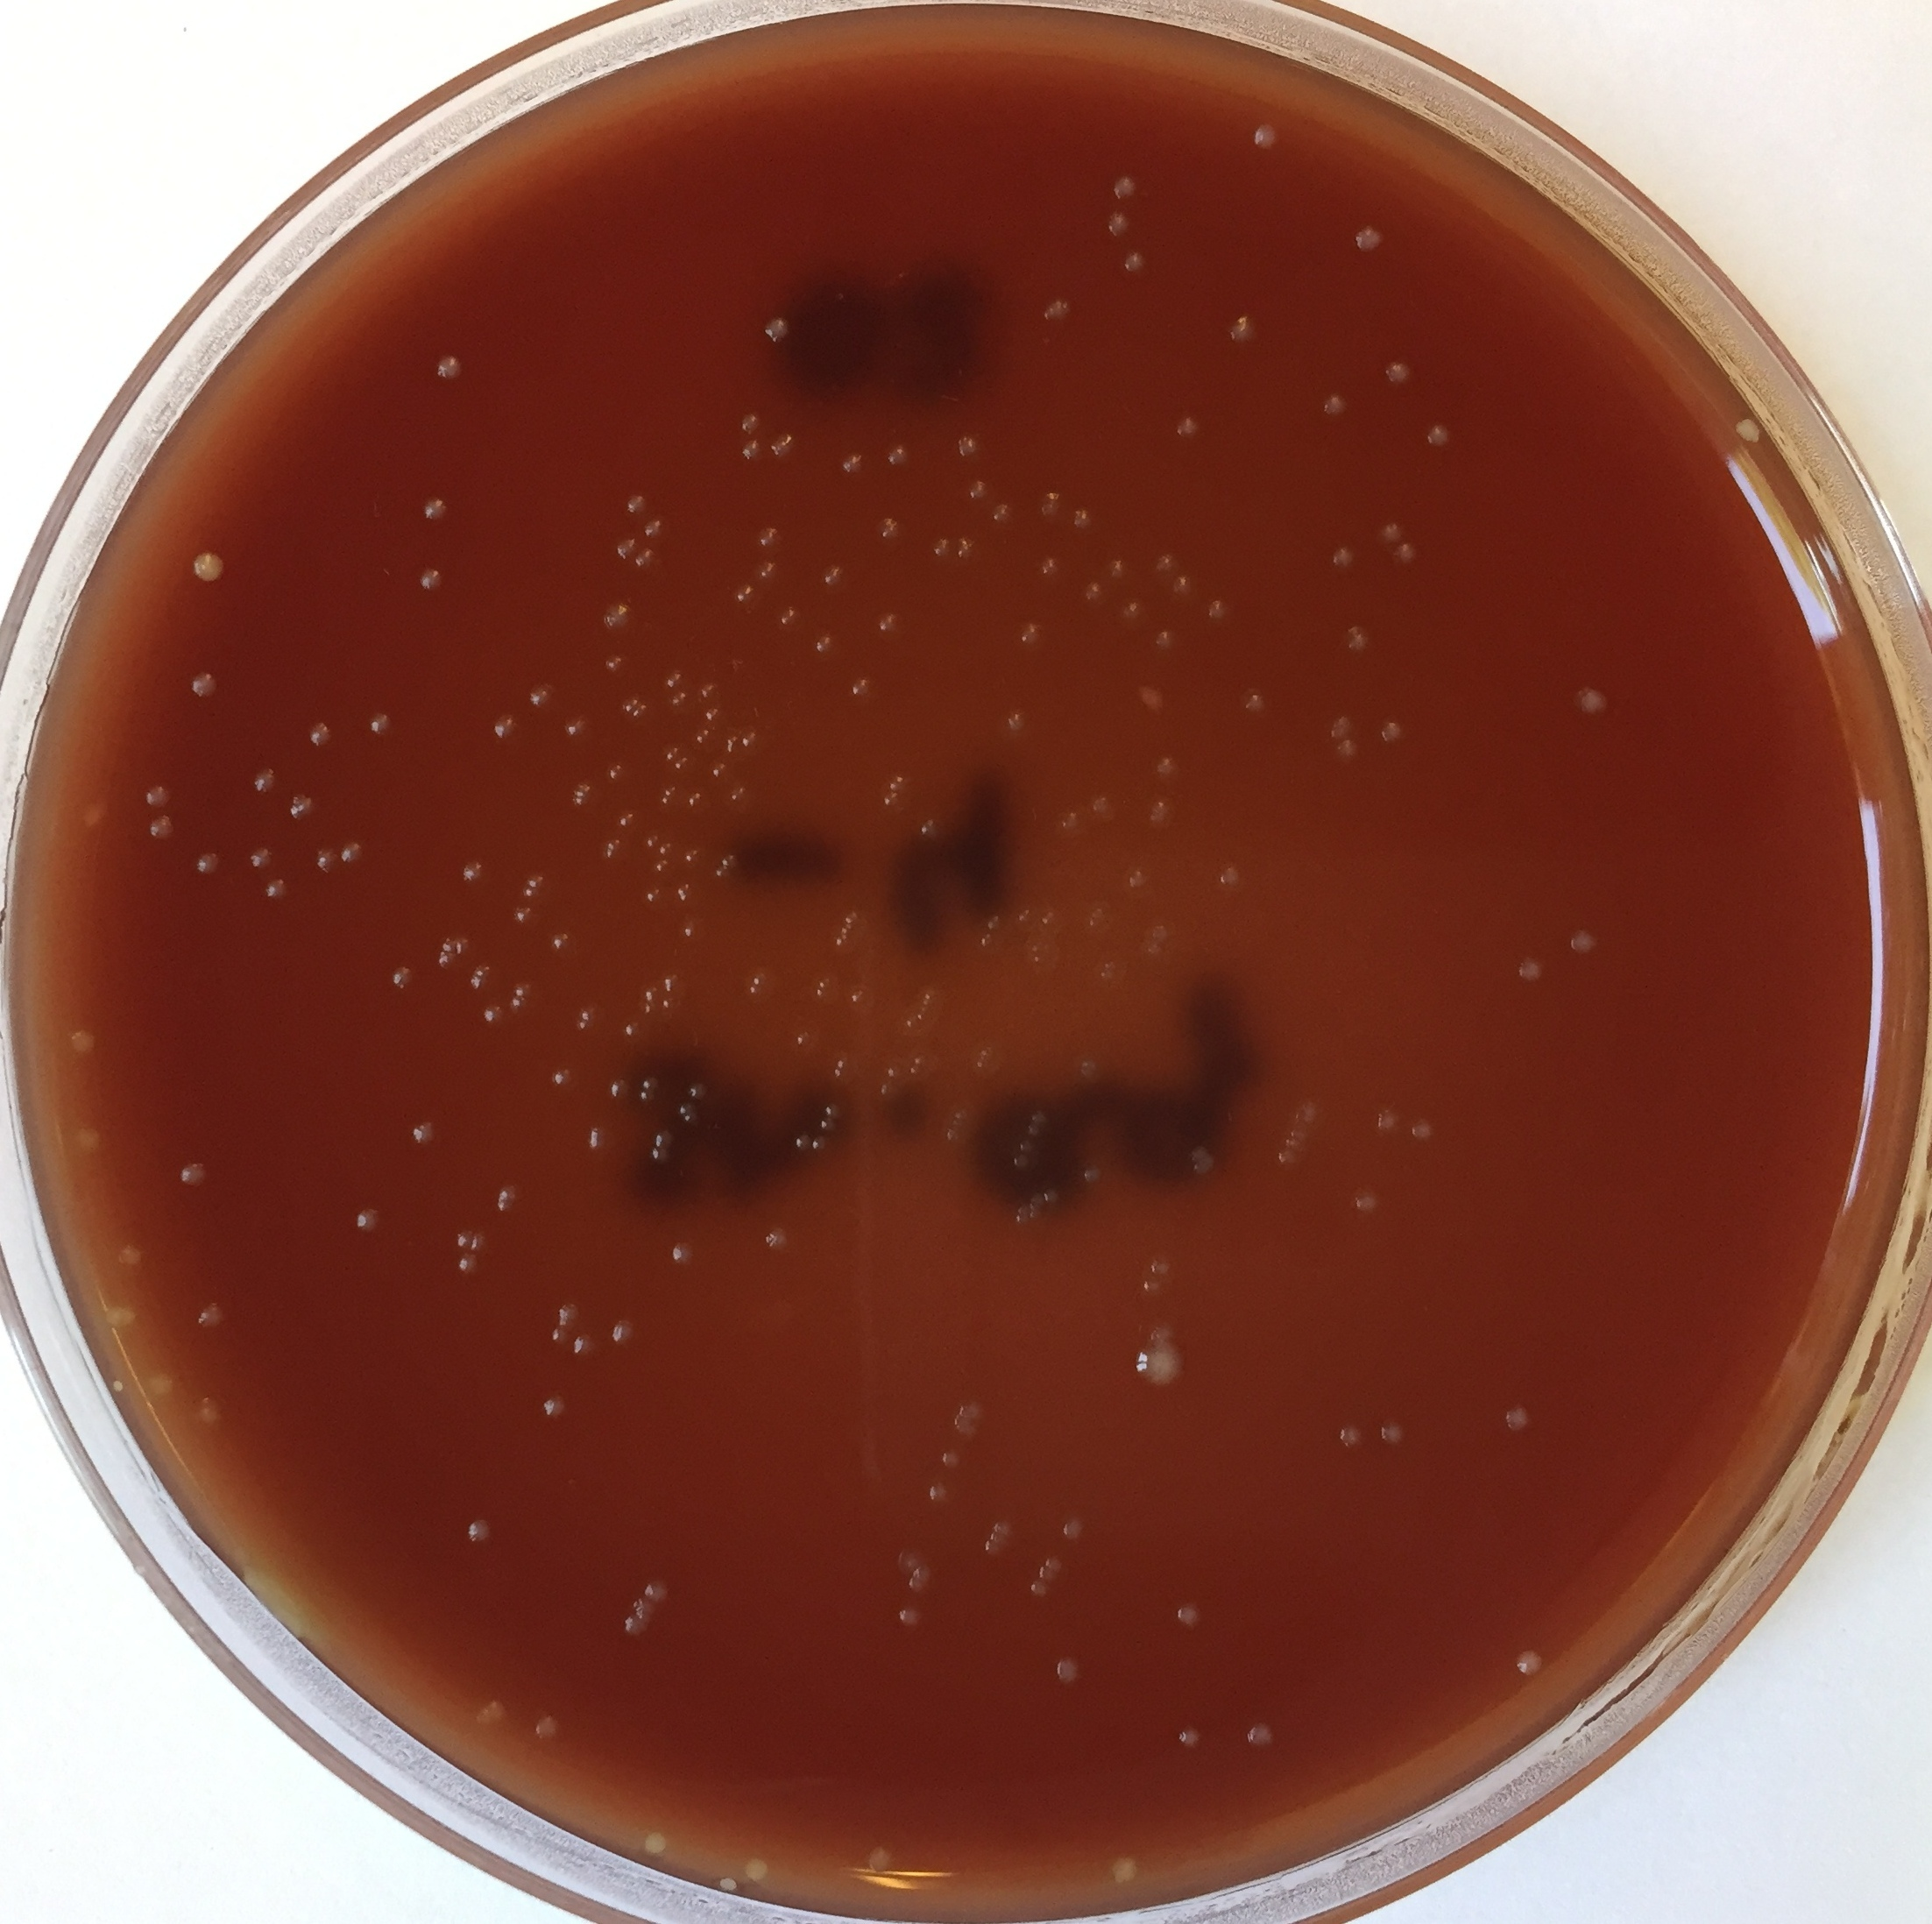sp23: (959, 1029, 1010, 1082), (1271, 1091, 1320, 1143), (1139, 1350, 1188, 1399), (189, 550, 236, 596), (910, 964, 955, 1010), (834, 897, 878, 934), (1133, 684, 1172, 721), (1223, 315, 1264, 349), (1572, 684, 1609, 719), (1567, 927, 1606, 960), (175, 1159, 213, 1193), (525, 678, 564, 712), (99, 1304, 139, 1336), (1514, 1646, 1549, 1681), (490, 712, 529, 744), (1107, 1855, 1142, 1889), (1514, 953, 1549, 987), (1352, 222, 1387, 255), (113, 1240, 150, 1272), (601, 599, 638, 631), (1103, 208, 1137, 241), (407, 1117, 441, 1151), (1141, 1314, 1176, 1346), (261, 876, 296, 907), (414, 564, 450, 596), (1324, 715, 1361, 745), (141, 1371, 175, 1402), (1377, 1417, 1410, 1448), (457, 853, 488, 886), (1245, 1720, 1280, 1750), (1384, 359, 1419, 389), (432, 352, 467, 382), (190, 851, 227, 879), (1052, 1656, 1084, 1688), (354, 1205, 386, 1237), (862, 1843, 892, 1876), (194, 1300, 229, 1328), (1502, 1402, 1534, 1432), (1252, 122, 1282, 153), (762, 315, 793, 345), (250, 766, 282, 796), (289, 791, 319, 823), (337, 837, 368, 867), (245, 844, 277, 874), (189, 670, 220, 699), (1174, 1721, 1207, 1750), (420, 495, 453, 523), (767, 432, 802, 458), (1345, 624, 1375, 654), (1377, 717, 1407, 747), (1155, 752, 1185, 782), (1174, 1602, 1206, 1630), (1153, 625, 1185, 654), (608, 1318, 640, 1346), (76, 1126, 108, 1154), (312, 846, 340, 877), (148, 812, 180, 840), (305, 721, 337, 749), (619, 1614, 652, 1640), (1111, 174, 1144, 201), (464, 1517, 494, 1545), (642, 1829, 672, 1857), (1336, 1422, 1364, 1452), (1204, 596, 1234, 624), (1319, 391, 1349, 419), (1424, 423, 1454, 451), (1329, 544, 1357, 574), (753, 523, 784, 550), (1352, 1188, 1380, 1216), (367, 710, 395, 738), (197, 1399, 224, 1429), (894, 1603, 924, 1630), (1394, 536, 1421, 566), (1123, 248, 1153, 275), (876, 610, 906, 636), (587, 1126, 613, 1156), (67, 1029, 99, 1054), (561, 717, 592, 742), (1042, 301, 1075, 324), (642, 1575, 670, 1602), (1239, 691, 1267, 717), (1172, 414, 1200, 440), (991, 500, 1019, 527), (874, 513, 901, 541), (1021, 620, 1047, 648), (684, 788, 712, 814), (541, 1395, 569, 1422), (670, 1239, 698, 1265), (390, 964, 418, 990), (640, 883, 668, 909), (601, 652, 629, 678), (451, 1253, 481, 1277), (744, 1857, 774, 1882), (1375, 522, 1405, 546), (762, 1226, 791, 1251), (1146, 923, 1165, 960), (1410, 1115, 1437, 1142), (571, 1332, 598, 1358), (1149, 1256, 1178, 1281), (887, 444, 911, 472), (955, 435, 984, 460), (145, 784, 173, 809), (629, 544, 658, 569), (532, 1716, 564, 1737), (1059, 1519, 1086, 1543), (1070, 507, 1095, 534), (821, 562, 846, 588), (707, 759, 733, 784), (1089, 795, 1116, 819), (1126, 869, 1153, 893), (608, 1077, 633, 1103), (642, 514, 668, 539), (624, 493, 652, 516), (737, 412, 762, 437), (843, 451, 867, 476), (777, 606, 802, 631), (851, 675, 876, 699), (1119, 597, 1144, 622), (483, 1003, 508, 1027), (613, 536, 638, 560), (1081, 580, 1107, 603), (726, 786, 753, 809), (605, 763, 631, 786), (959, 1401, 987, 1422), (955, 534, 977, 562), (811, 634, 839, 655), (557, 1300, 585, 1321), (494, 1182, 522, 1203), (950, 1415, 980, 1434), (911, 1563, 936, 1586), (1375, 1112, 1400, 1135), (754, 560, 779, 583), (733, 581, 758, 604), (1107, 557, 1132, 580), (917, 818, 941, 840), (1218, 865, 1243, 888), (1141, 1276, 1167, 1297), (1056, 810, 1082, 832), (686, 1080, 712, 1101), (1190, 1156, 1218, 1175), (940, 1447, 962, 1469), (554, 1066, 576, 1089), (1082, 1163, 1105, 1186), (795, 1029, 818, 1052), (659, 971, 682, 994), (742, 437, 763, 462), (931, 537, 955, 559), (1038, 555, 1063, 576), (652, 1126, 673, 1151), (451, 937, 476, 958), (663, 670, 687, 691), (550, 932, 576, 951), (906, 1573, 929, 1595), (968, 479, 991, 500), (1007, 710, 1029, 731), (661, 742, 682, 765), (1040, 1186, 1063, 1207), (513, 978, 536, 999), (925, 1484, 950, 1503), (1169, 574, 1193, 594), (548, 1325, 573, 1344), (702, 705, 726, 724), (1103, 957, 1130, 974), (1338, 740, 1359, 761), (1040, 909, 1061, 930), (624, 1018, 645, 1040), (712, 869, 732, 892), (1188, 1143, 1211, 1163), (1276, 1147, 1299, 1166), (1155, 551, 1178, 571), (739, 731, 762, 751), (978, 930, 998, 953), (848, 987, 871, 1006), (635, 999, 658, 1018), (1146, 798, 1170, 816), (469, 1230, 488, 1251), (1029, 1579, 1051, 1598), (982, 1538, 1001, 1559), (673, 754, 695, 773), (695, 728, 716, 747), (724, 735, 744, 756), (883, 789, 904, 809), (793, 1131, 814, 1151), (1019, 1138, 1040, 1158), (1081, 1059, 1102, 1078), (679, 921, 700, 941), (675, 881, 695, 902), (622, 692, 642, 714), (629, 703, 650, 722), (1035, 1566, 1058, 1584), (1042, 1556, 1065, 1573), (1040, 490, 1063, 507), (640, 1073, 663, 1091), (527, 876, 550, 893), (668, 689, 691, 707), (809, 1135, 829, 1154), (451, 1232, 472, 1249), (719, 851, 740, 869), (984, 914, 1005, 932), (650, 1145, 672, 1163), (469, 973, 487, 994), (640, 985, 661, 1003), (992, 1517, 1012, 1535), (617, 812, 636, 830), (658, 840, 677, 858), (1019, 907, 1037, 927), (880, 1082, 899, 1099), (575, 1018, 594, 1036), (702, 678, 719, 698), (661, 784, 682, 800), (658, 795, 679, 810), (638, 1087, 659, 1103), (1012, 1152, 1033, 1168), (471, 962, 492, 978), (513, 906, 534, 921), (686, 847, 703, 865), (945, 1128, 962, 1145), (580, 1004, 598, 1022), (643, 833, 663, 849), (679, 1099, 698, 1115), (1031, 1110, 1051, 1126), (652, 860, 670, 876), (895, 770, 913, 786), (888, 781, 906, 796), (887, 1062, 903, 1080), (751, 971, 769, 987), (834, 934, 850, 951), (904, 1013, 920, 1031), (511, 994, 527, 1011), (444, 936, 460, 953), (1031, 953, 1051, 967), (820, 1117, 839, 1131), (830, 1066, 850, 1080), (908, 1064, 927, 1078), (813, 987, 832, 1001), (1026, 1122, 1042, 1138), (1017, 1202, 1033, 1217), (746, 983, 762, 999), (820, 974, 836, 990), (569, 784, 587, 798), (823, 1103, 841, 1117), (682, 1110, 700, 1124), (1015, 1212, 1033, 1226), (573, 795, 592, 807), (1028, 941, 1047, 953), (522, 888, 541, 900), (1088, 916, 1103, 930), (913, 1054, 929, 1068), (437, 957, 453, 971), (1089, 907, 1107, 920), (606, 839, 622, 851), (603, 847, 619, 860)
